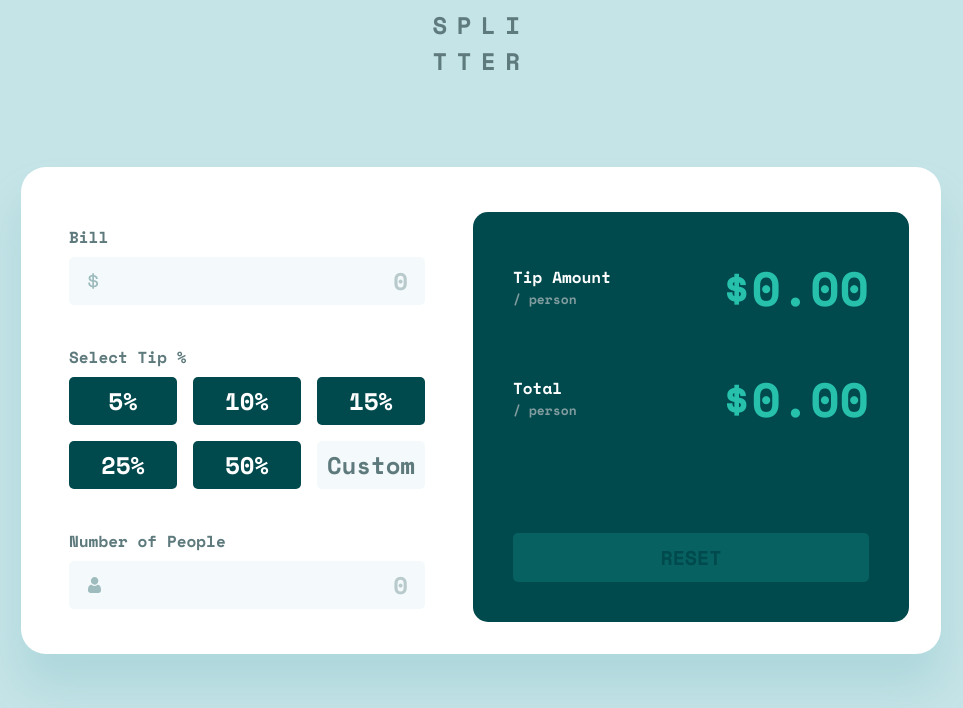
Test: App UI Behavior › reset button clears all values
In the number field labelled "Bill": (247, 280) x1=69 y1=256 x2=425 y2=304, type "100"
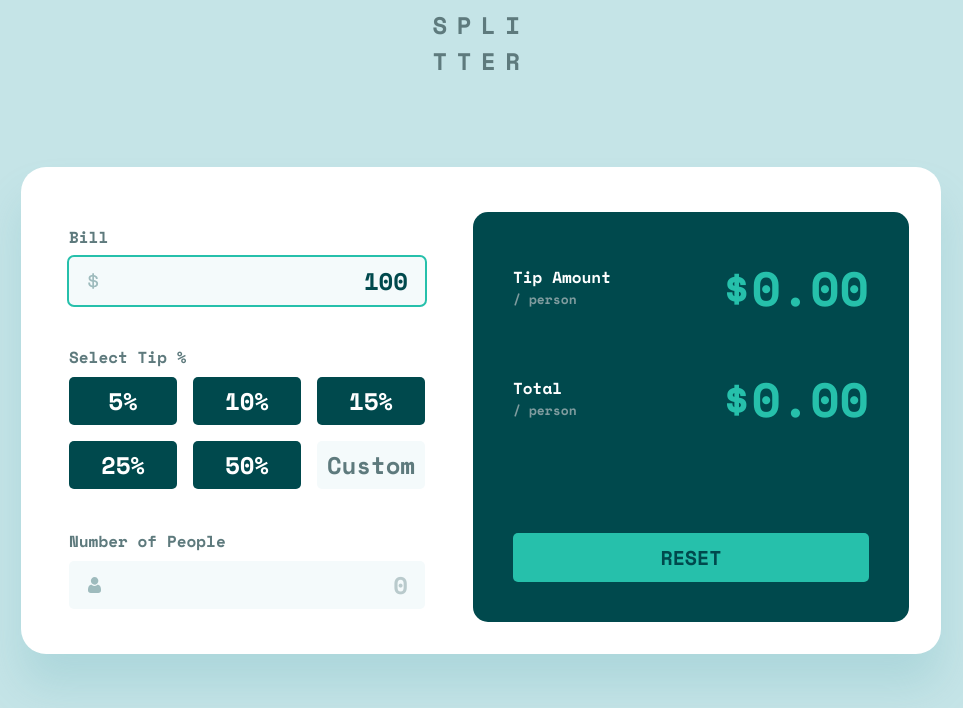
Check: the button "RESET" is enabled
Click the button "RESET": (691, 557) x1=513 y1=532 x2=869 y2=582
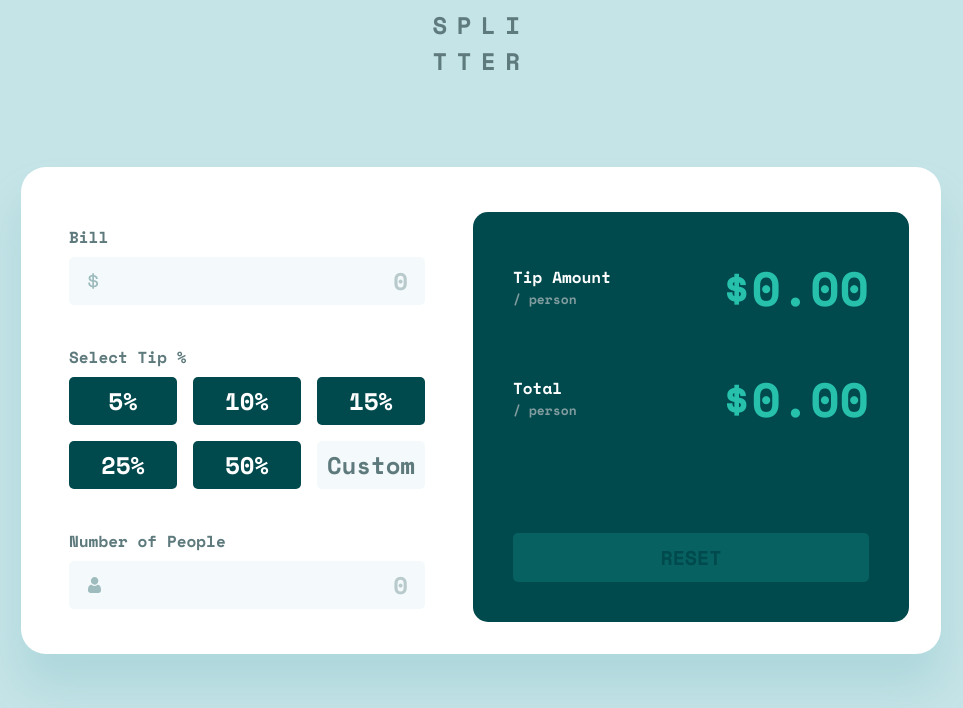
Check: the text "$0.00" is shown 2 times, box x1=722 y1=252 x2=869 y2=322; x1=722 y1=362 x2=869 y2=434
Check: the number field labelled "Bill" is empty, box x1=69 y1=256 x2=425 y2=304
